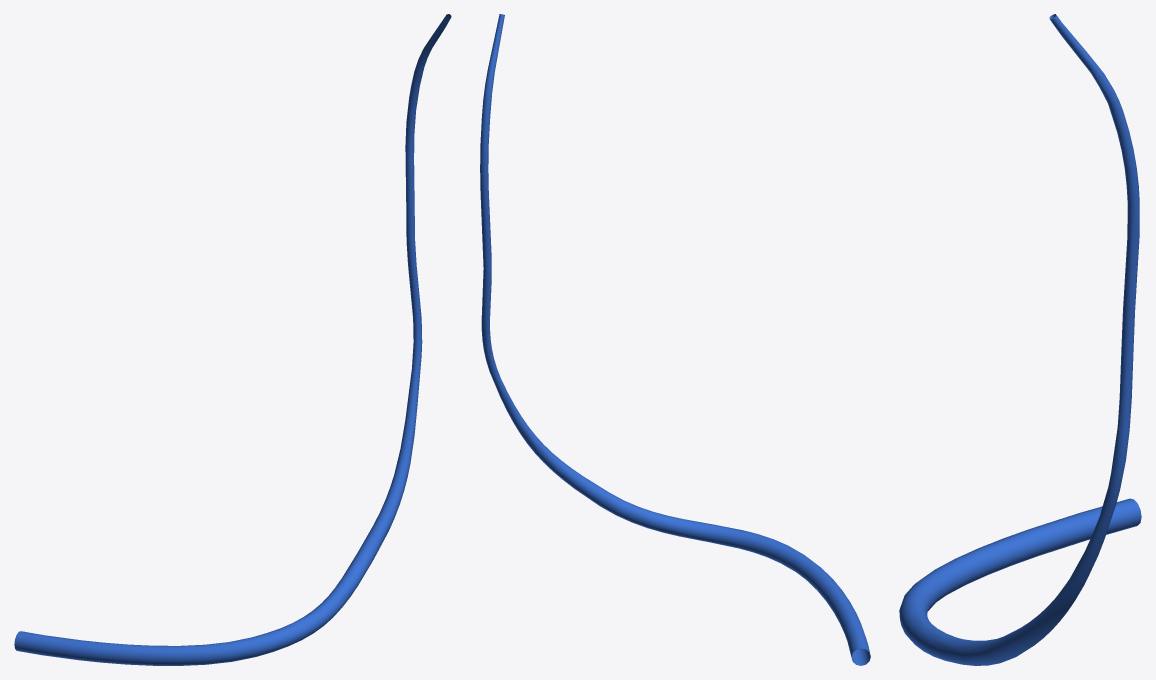
The model's file is circulatorio-anterior-jugular-vein-r.glb.
3 renders of one model, left to right at view 1: azimuth 30°, elevation 25°; view 2: azimuth 150°, elevation 25°; view 3: azimuth 270°, elevation 25°, orthographic. The views are drawn at different scales.
Parts seen in each view (by area): view 1: Anterior jugular vein.r; view 2: Anterior jugular vein.r; view 3: Anterior jugular vein.r.
Boxes of the visible parts, bbox=[...] form: Anterior jugular vein.r: bbox=[14, 14, 451, 665]; Anterior jugular vein.r: bbox=[480, 14, 870, 665]; Anterior jugular vein.r: bbox=[899, 14, 1141, 665].
Bounding box in the file's own units: 0.0329 × 0.0427 × 0.0119.
